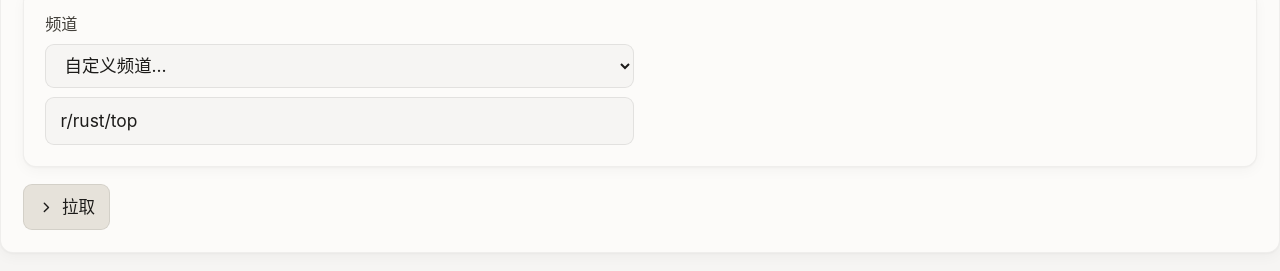
Scenario: Declarative plugin UI › submits preset channel IDs and preserves custom input when presets refresh
Earlier steps of the test are not shown.
Later steps or results of the test are not shown.
Expected: the field named "频道（自定义）" holds "r/rust/top", [45,98,634,145]
Click the button "拉取" at (66, 207), box [23,184,110,230]
Select "Linux" in the dropdown named "频道" at (340, 66), box [45,44,634,88]
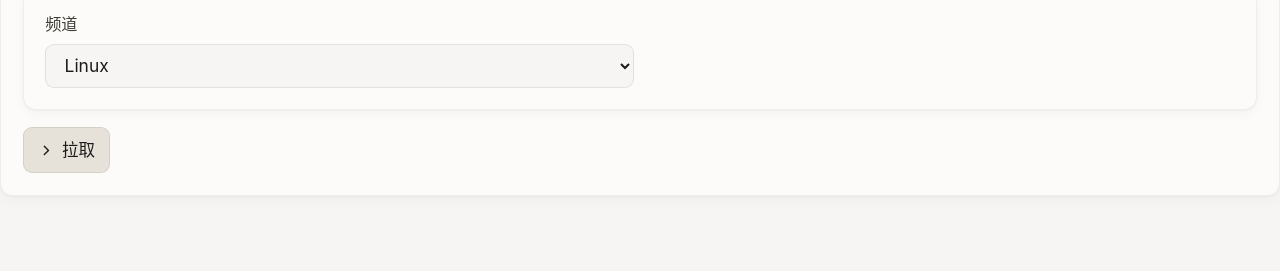
Result: the field labelled "频道（自定义）" is gone
